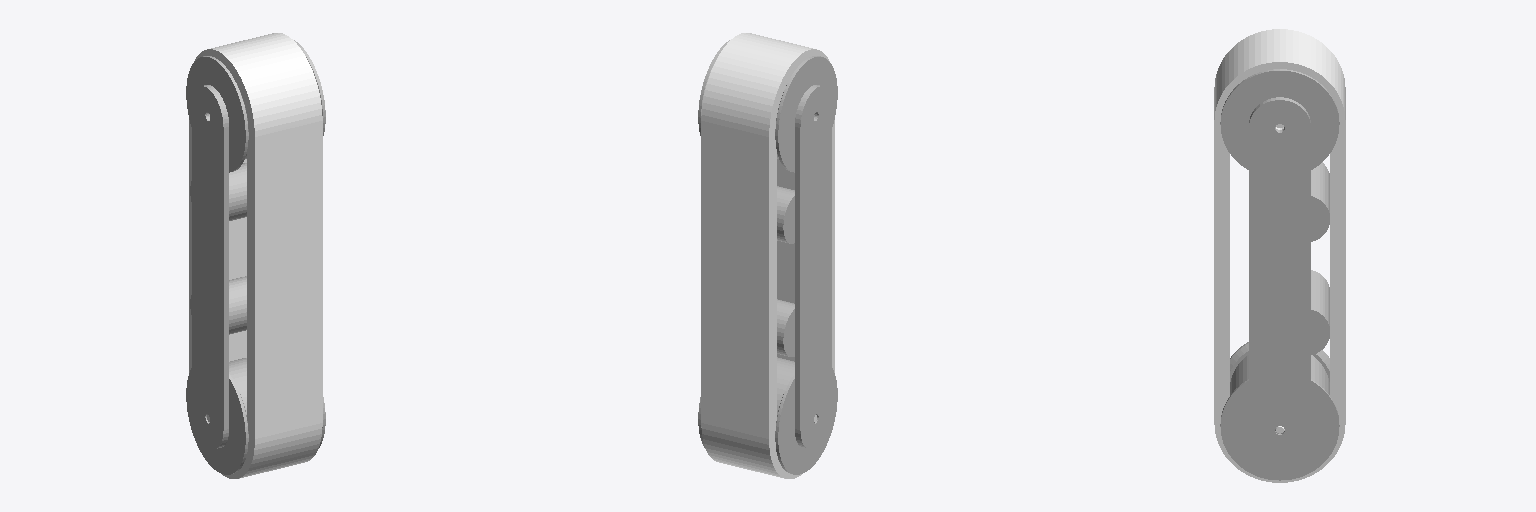
The model's file is brazo_izq_frontal_v2.obj.
The picture shows the model from 3 angles: view 1: azimuth 30°, elevation 25°; view 2: azimuth 150°, elevation 25°; view 3: azimuth 270°, elevation 25°; orthographic projection.
Visible parts, largest first — view 1: Object.1; view 2: Object.1; view 3: Object.1.
Boxes of the visible parts, x1,y1,x2,y2 form: Object.1: [186, 33, 325, 478]; Object.1: [698, 33, 837, 478]; Object.1: [1214, 29, 1345, 482].
Size of the model in its own units: 107 by 446 by 126.